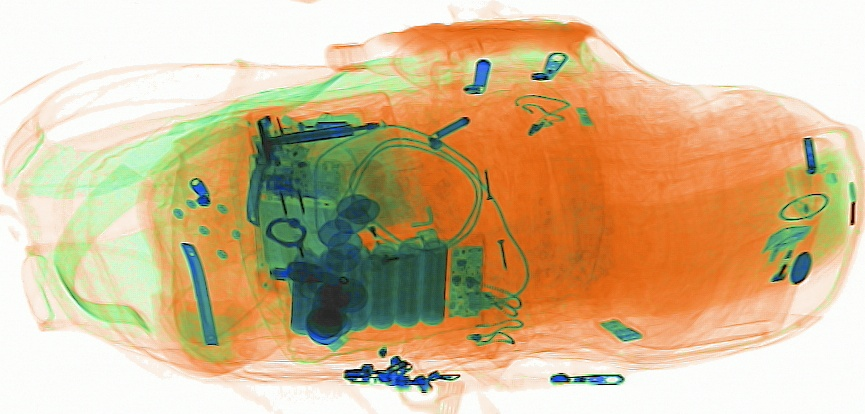lighter: (710, 219, 816, 330), (330, 147, 408, 275), (345, 226, 445, 280)
powerbank: (282, 232, 489, 339)
